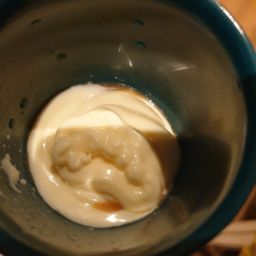Mayonnaise: (14, 78, 175, 222), (55, 102, 160, 213)
